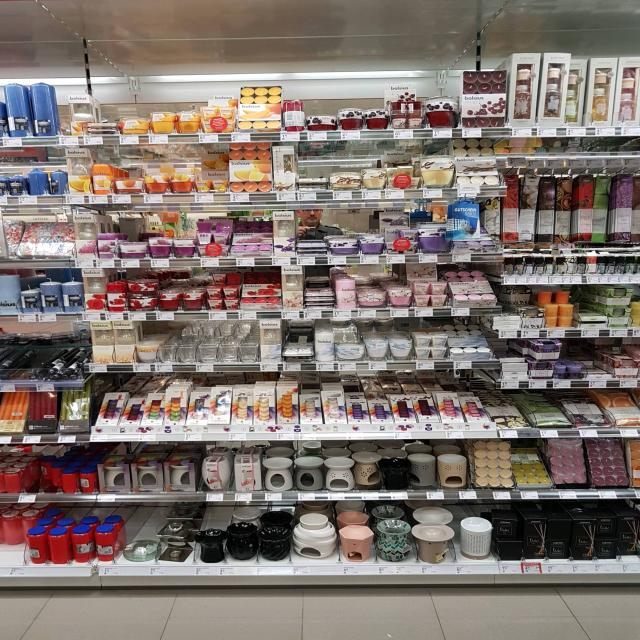unorganised: (1, 515, 31, 544), (547, 303, 574, 330), (579, 361, 612, 377), (45, 464, 60, 490), (37, 462, 50, 483)
